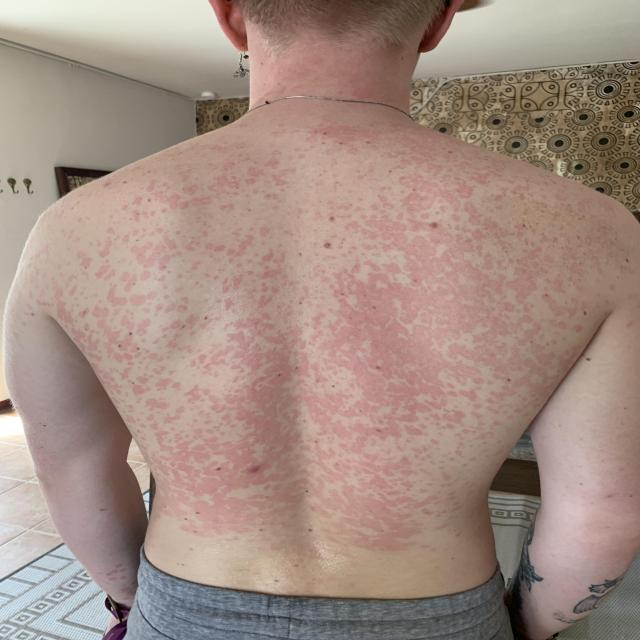tinea: (89, 194, 640, 607)
